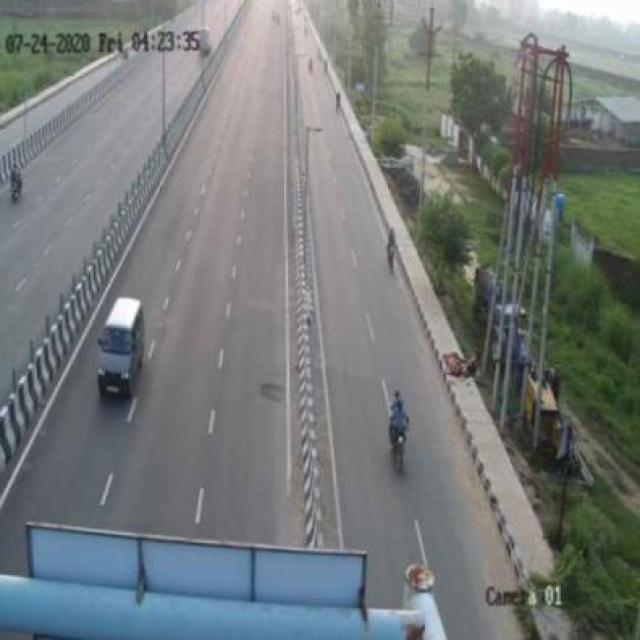car: (92, 286, 142, 406)
